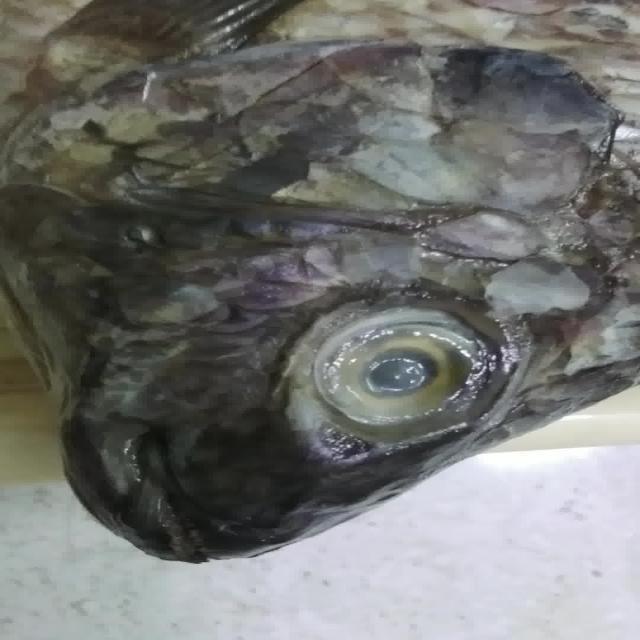Non-Fresh: (298, 294, 494, 439)
